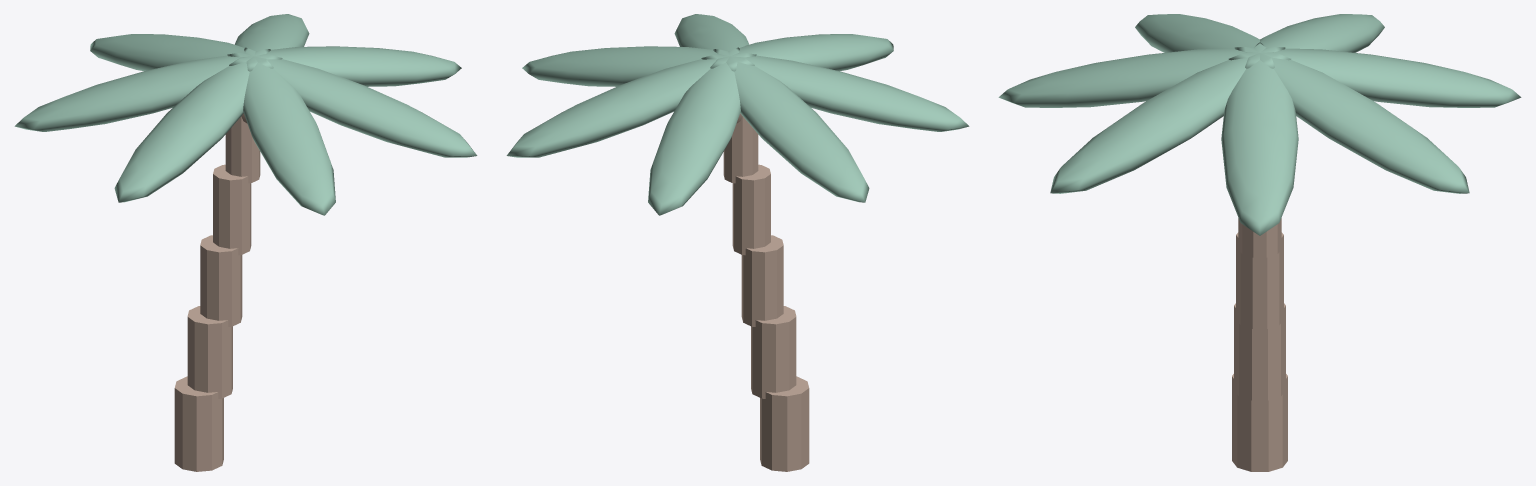
File: palm.glb
3 views of the same model, side by side, from view 1: azimuth 30°, elevation 25°; view 2: azimuth 150°, elevation 25°; view 3: azimuth 270°, elevation 25° (orthographic). The views are drawn at different scales.
Visible parts, largest first — view 1: palm_Palm_frond, palm_Salvaged_teak; view 2: palm_Palm_frond, palm_Salvaged_teak; view 3: palm_Palm_frond, palm_Salvaged_teak.
Boxes of the visible parts, x1,y1,x2,y2 form: palm_Palm_frond: (14,14,477,215); palm_Salvaged_teak: (174,113,260,471); palm_Palm_frond: (506,14,969,215); palm_Salvaged_teak: (723,113,809,471); palm_Palm_frond: (998,14,1521,235); palm_Salvaged_teak: (1232,218,1287,471).
Size of the model in its own units: 2.9 by 2.75 by 2.97.
